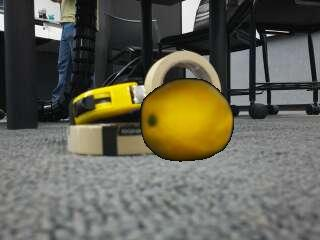lemon: (141, 79, 233, 161)
